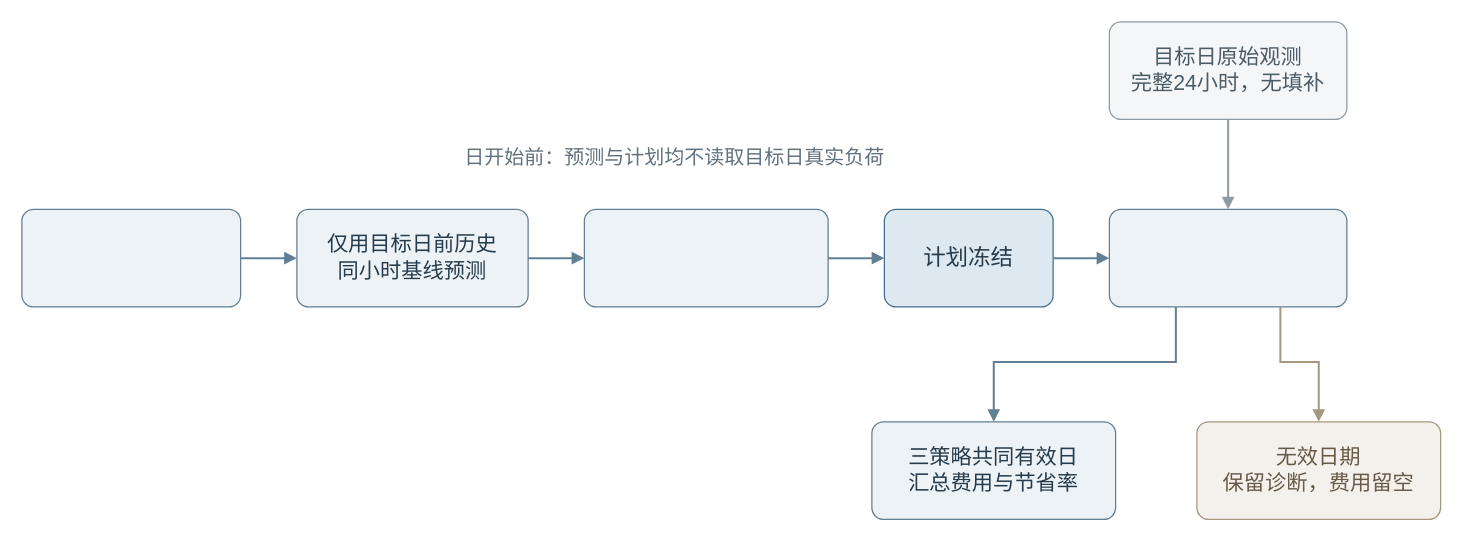
Image size: 1463x541. Some labels were removed from this diagram. Each missing label, with the box of its shape:
UCI分钟数据 质量检查与小时聚合: (21, 208, 241, 307)
三策略计划 无储能 / 固定规则 预测驱动优化: (583, 208, 828, 307)
真实负荷回测 设备约束与放电上限: (1108, 208, 1347, 307)
